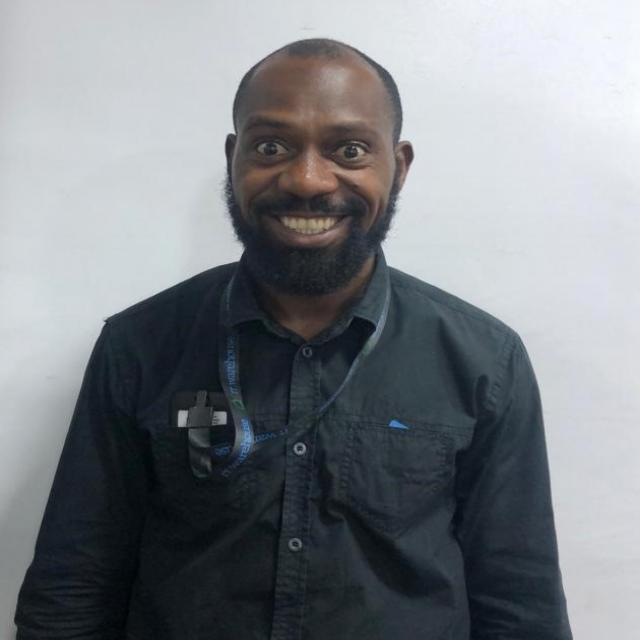happy: (226, 36, 414, 292)
